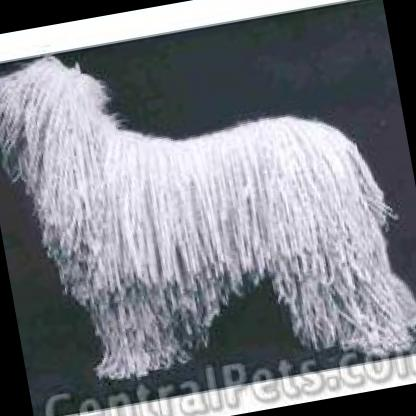komondor: (0, 2, 416, 415)
